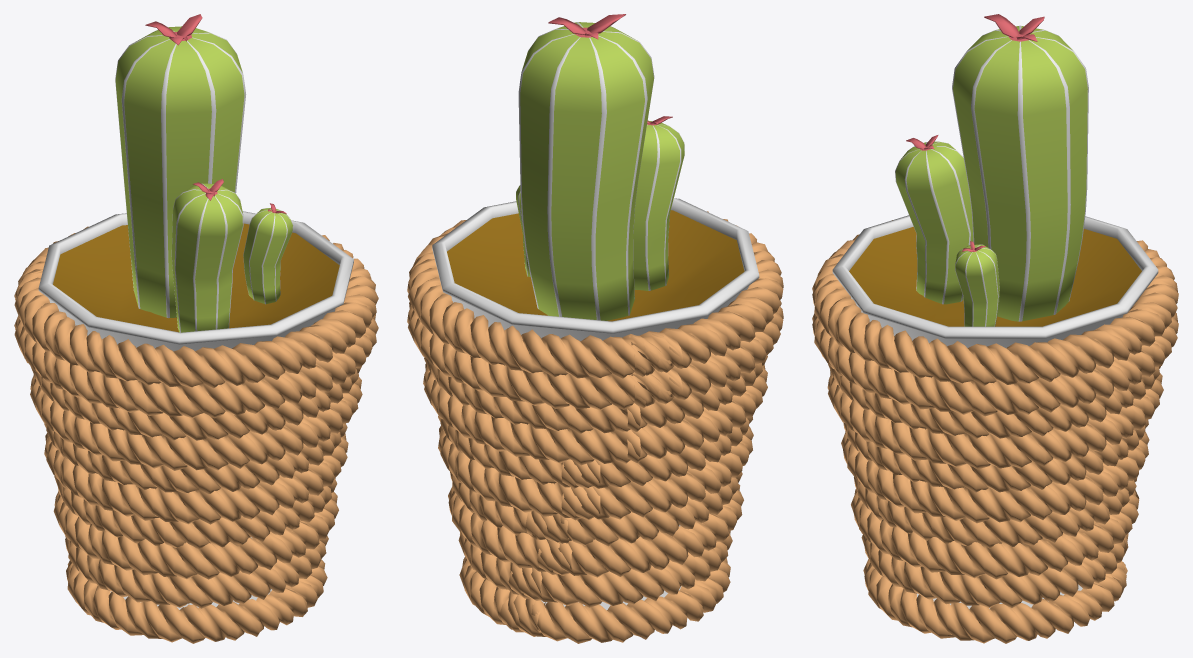
File: SaksiBardak.fbx
3 views of the same model, side by side, from view 1: azimuth 30°, elevation 25°; view 2: azimuth 150°, elevation 25°; view 3: azimuth 270°, elevation 25° (orthographic). The views are drawn at different scales.
Parts seen in each view (by area): view 1: Final1; view 2: Final1; view 3: Final1.
Boxes of the visible parts, <box> form: Final1: <box>14,14,378,643</box>; Final1: <box>407,14,783,643</box>; Final1: <box>812,14,1178,643</box>.
Bounding box in the file's own units: 334 × 569 × 333.
